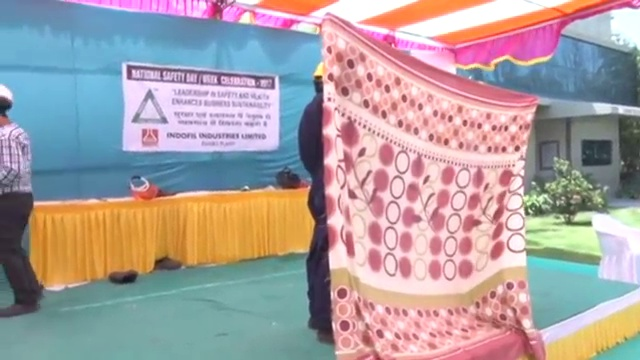helmet: (1, 81, 18, 112)
helmet_on: (1, 83, 19, 130)
person: (299, 62, 340, 346), (1, 82, 47, 318)
